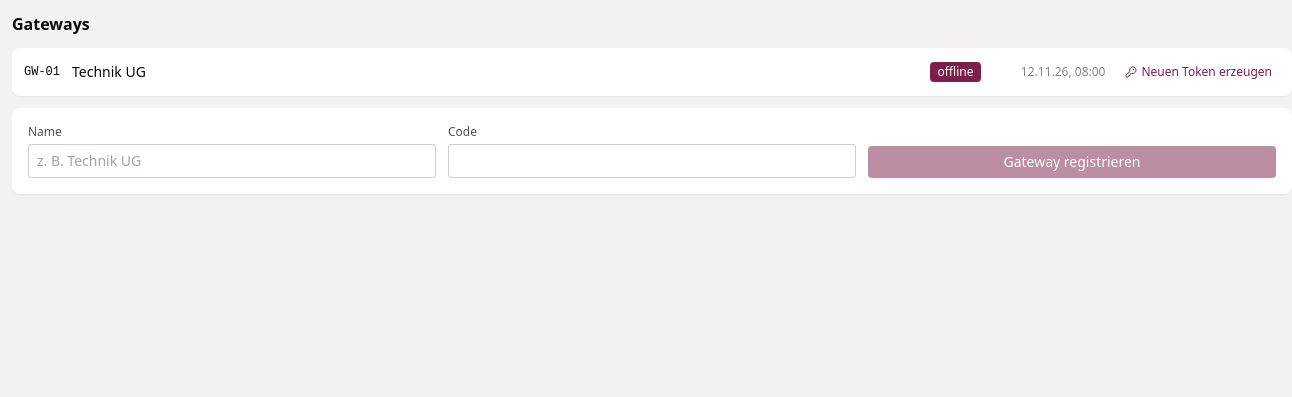
Test case: GatewaysPanel › shows a new token once with the command to run the gateway
This screenshot has width=1292, height=397.
Click the button "Neuen Token erzeugen": (1199, 72) [1118,60,1280,84]
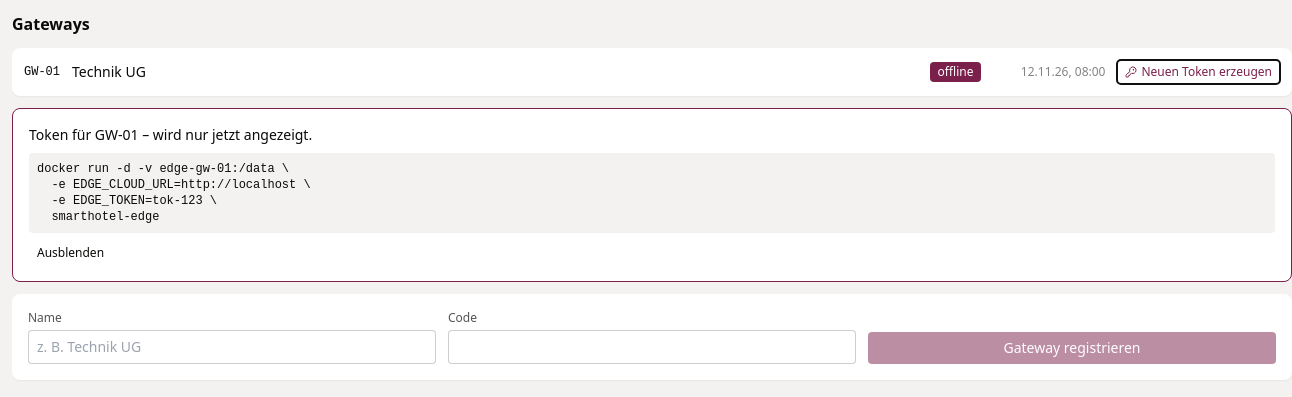
Check: the text "EDGE_TOKEN=tok-123" is shown, box [37,162,311,224]
Click the button "Ausblenden": (71, 253) [29,241,112,265]
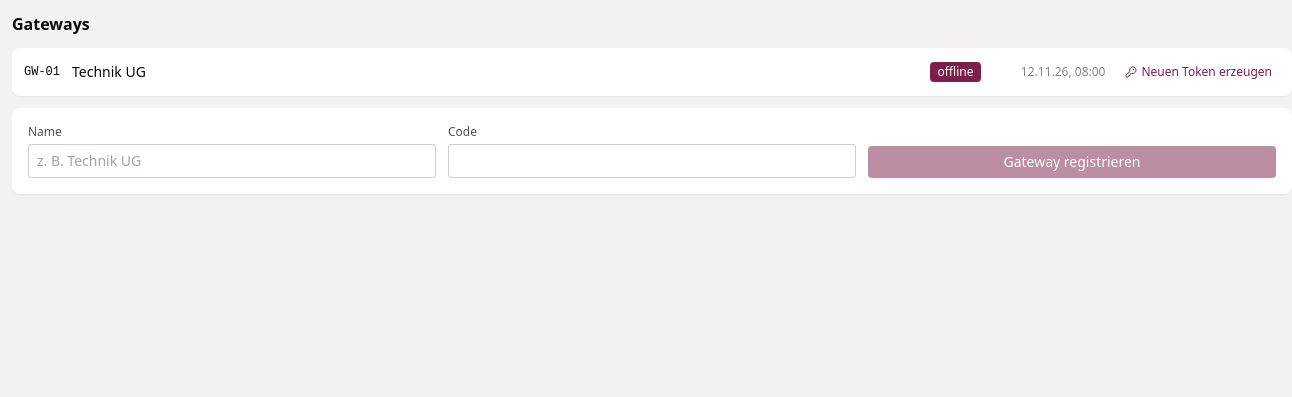
Check: the text "tok-123" is gone
